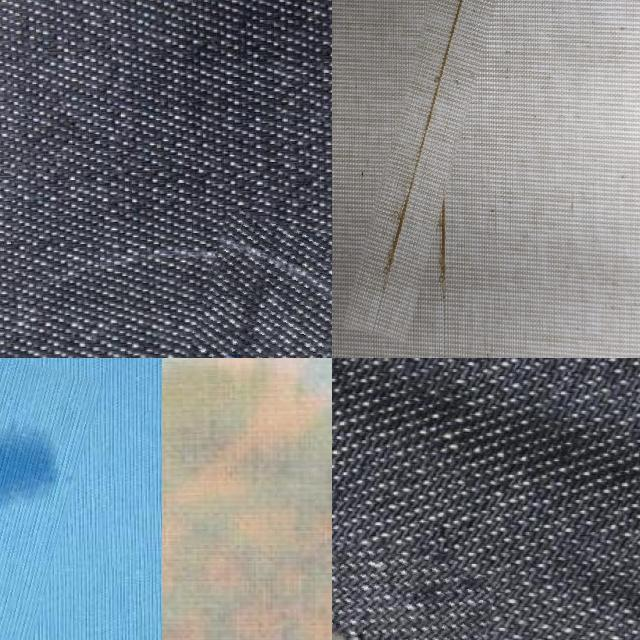Thread_other: (0, 358, 86, 634)
stains: (377, 0, 513, 342), (148, 212, 332, 358), (332, 534, 484, 640)
